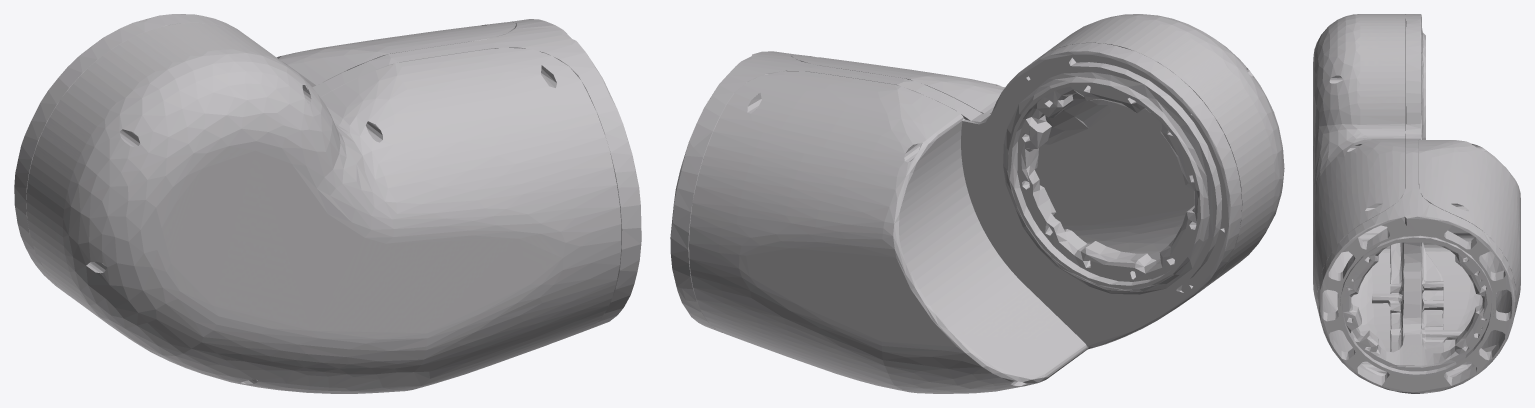
The model's file is r2cl_ext_bone1.dae.
3 renders of one model, left to right at view 1: azimuth 30°, elevation 25°; view 2: azimuth 150°, elevation 25°; view 3: azimuth 270°, elevation 25°, orthographic. The views are drawn at different scales.
Visible parts, largest first — view 1: node; view 2: node; view 3: node.
Part boxes in pixels (x1,y1,x2,y2): node: (14,14,641,393); node: (670,14,1284,393); node: (1313,14,1520,393).
Size of the model in its own units: 0.2676 by 0.1837 by 0.1397.
1 material, 1 textured.
